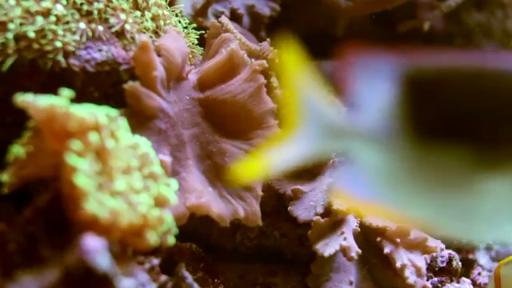Fish: (227, 34, 511, 243), (488, 256, 511, 287)
